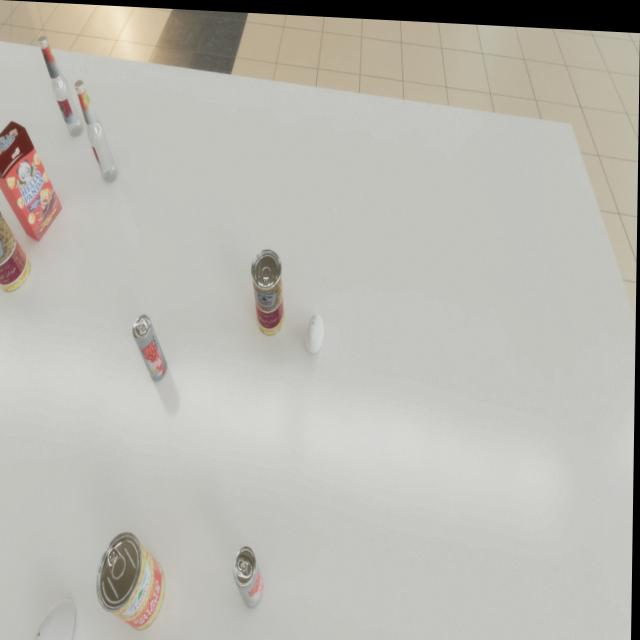Bottle: (37, 35, 85, 136), (73, 79, 120, 182)
HelloPanda: (0, 119, 64, 241)
Potato_sticks: (97, 529, 167, 630), (251, 246, 286, 334), (0, 206, 32, 292)
Rita_zero_sugar: (133, 313, 168, 380), (235, 543, 265, 606)
Salt: (32, 597, 77, 640), (307, 309, 325, 350)
